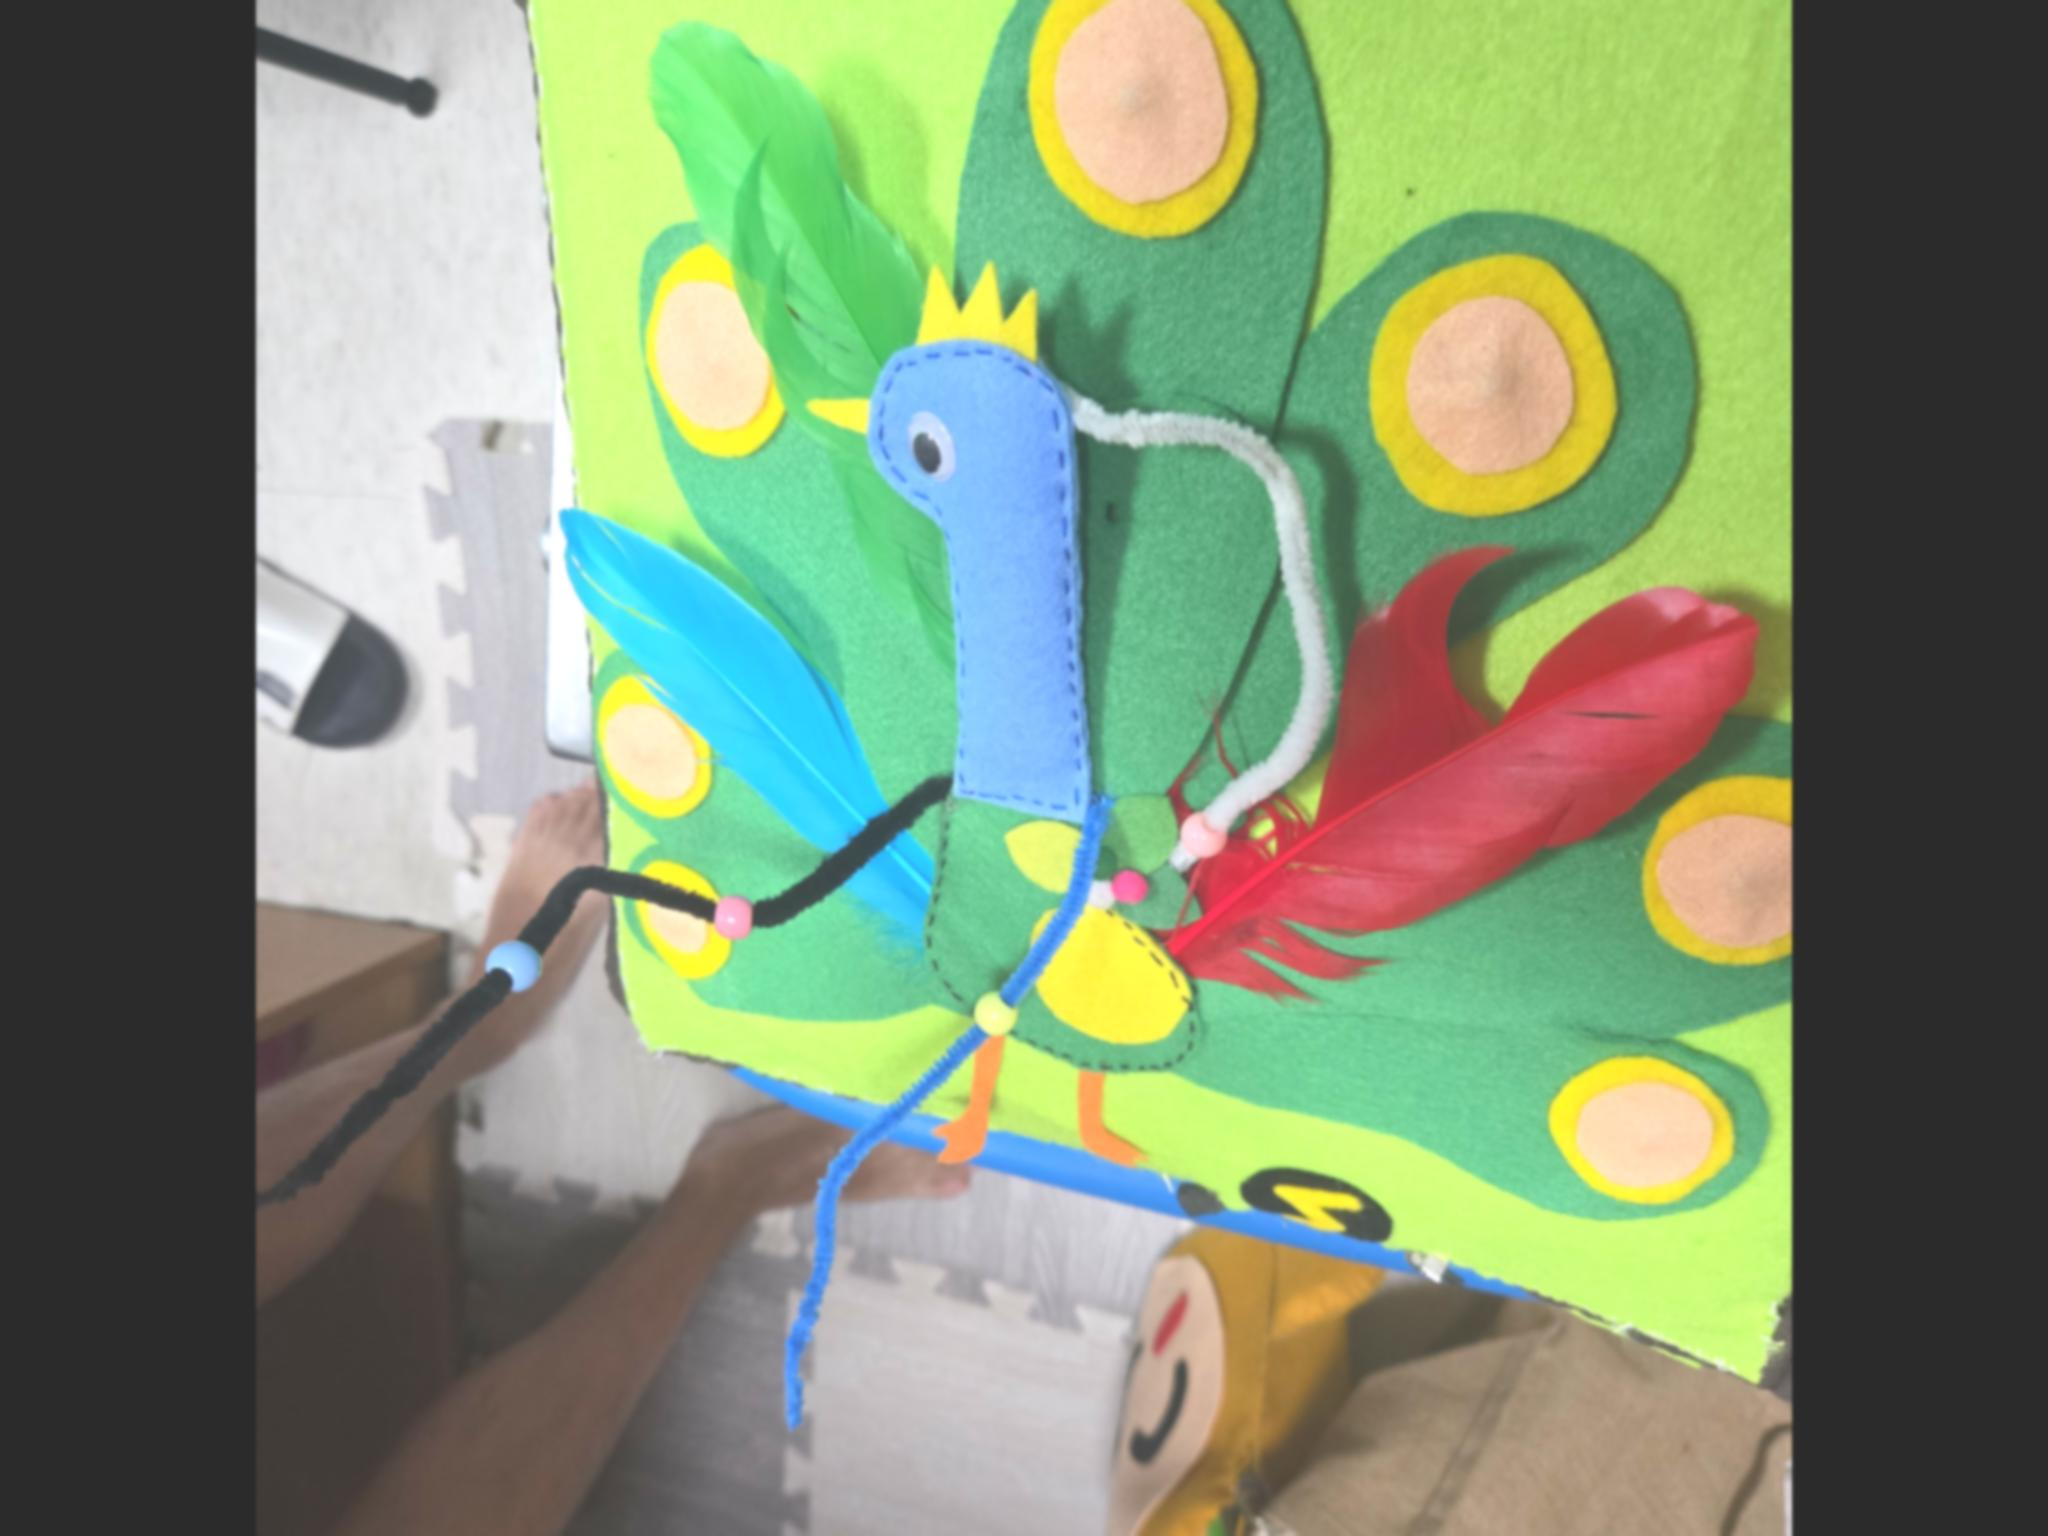bead: (481, 928, 555, 995), (705, 881, 772, 947), (1169, 807, 1235, 863), (969, 986, 1024, 1037)
